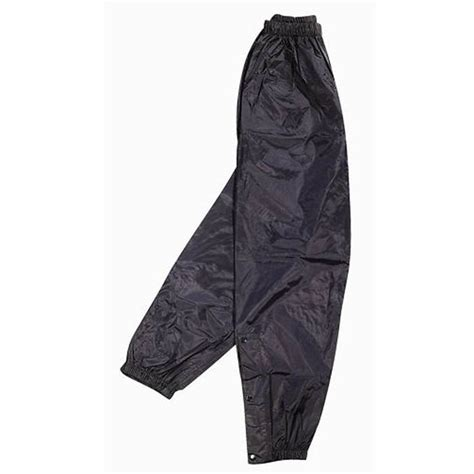nylon: (119, 14, 352, 461)
